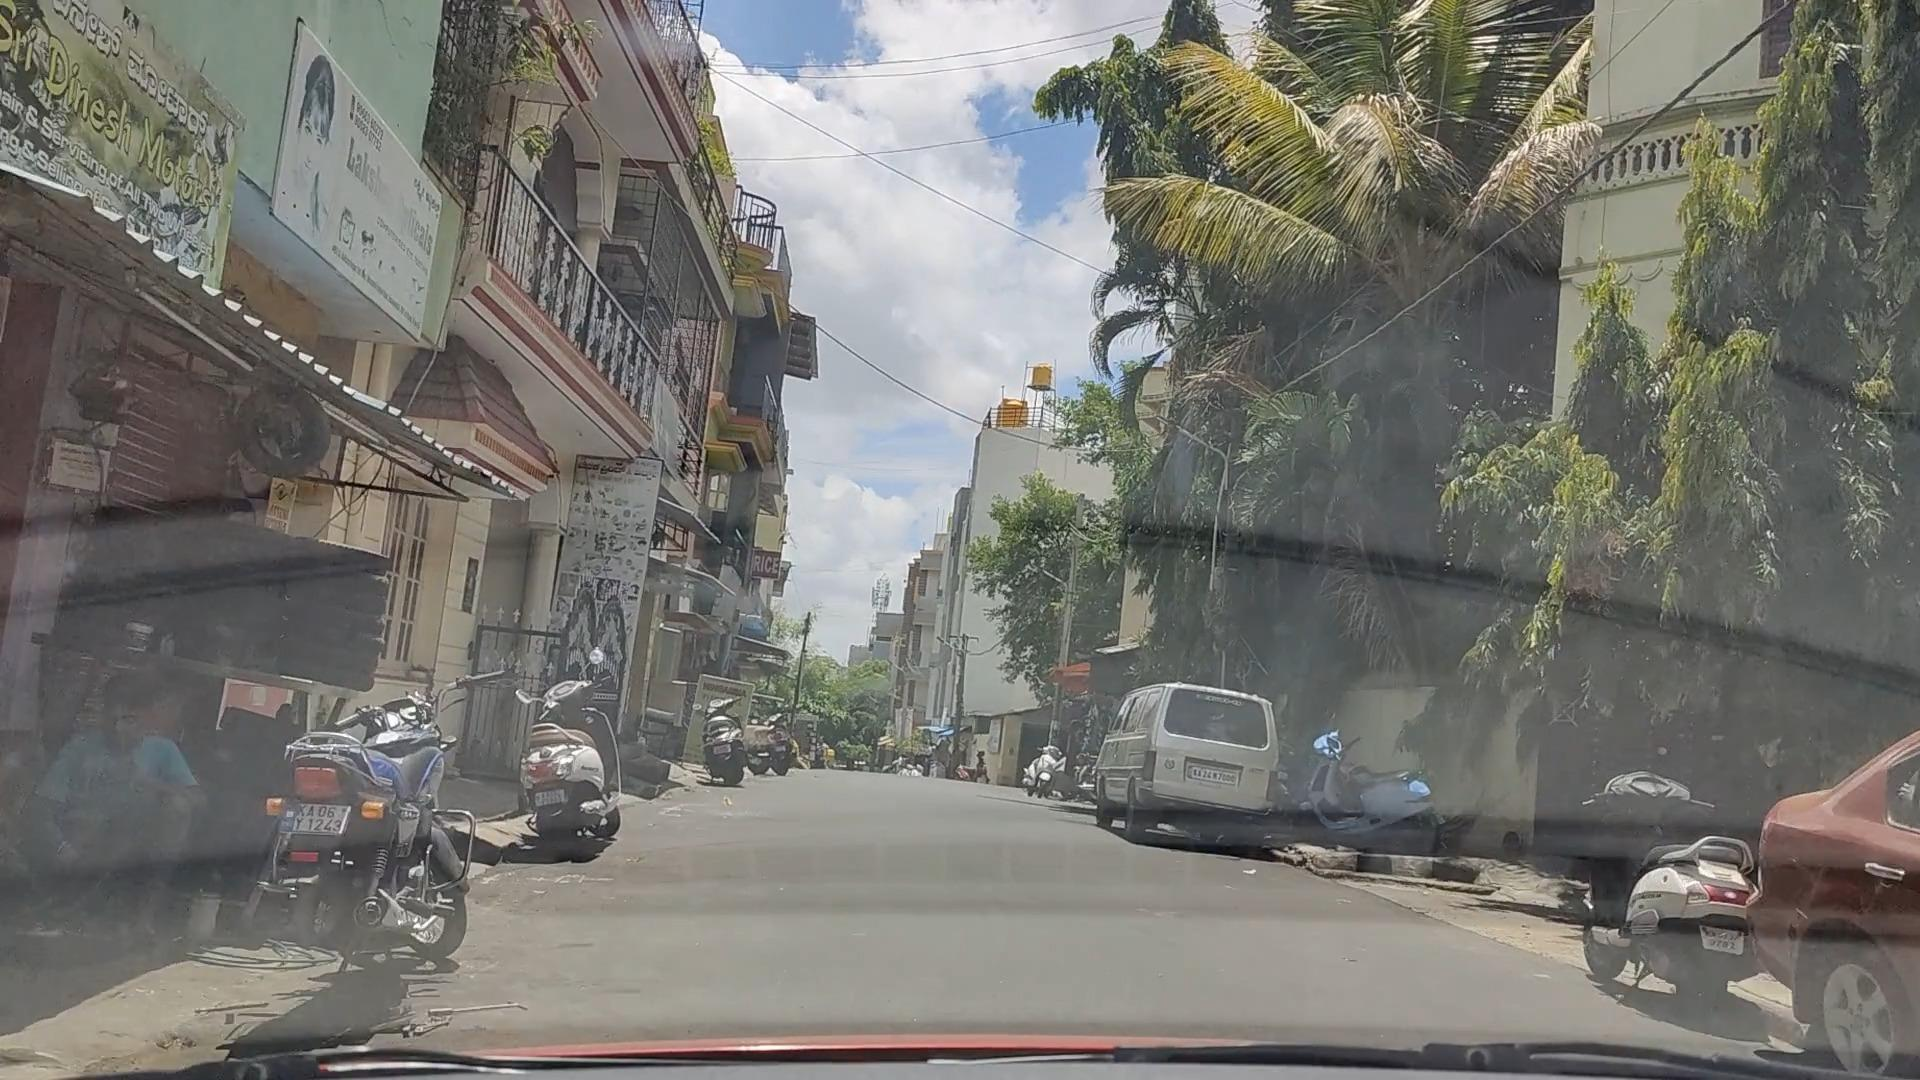LMV: (285, 682, 454, 976), (1093, 671, 1283, 843)
